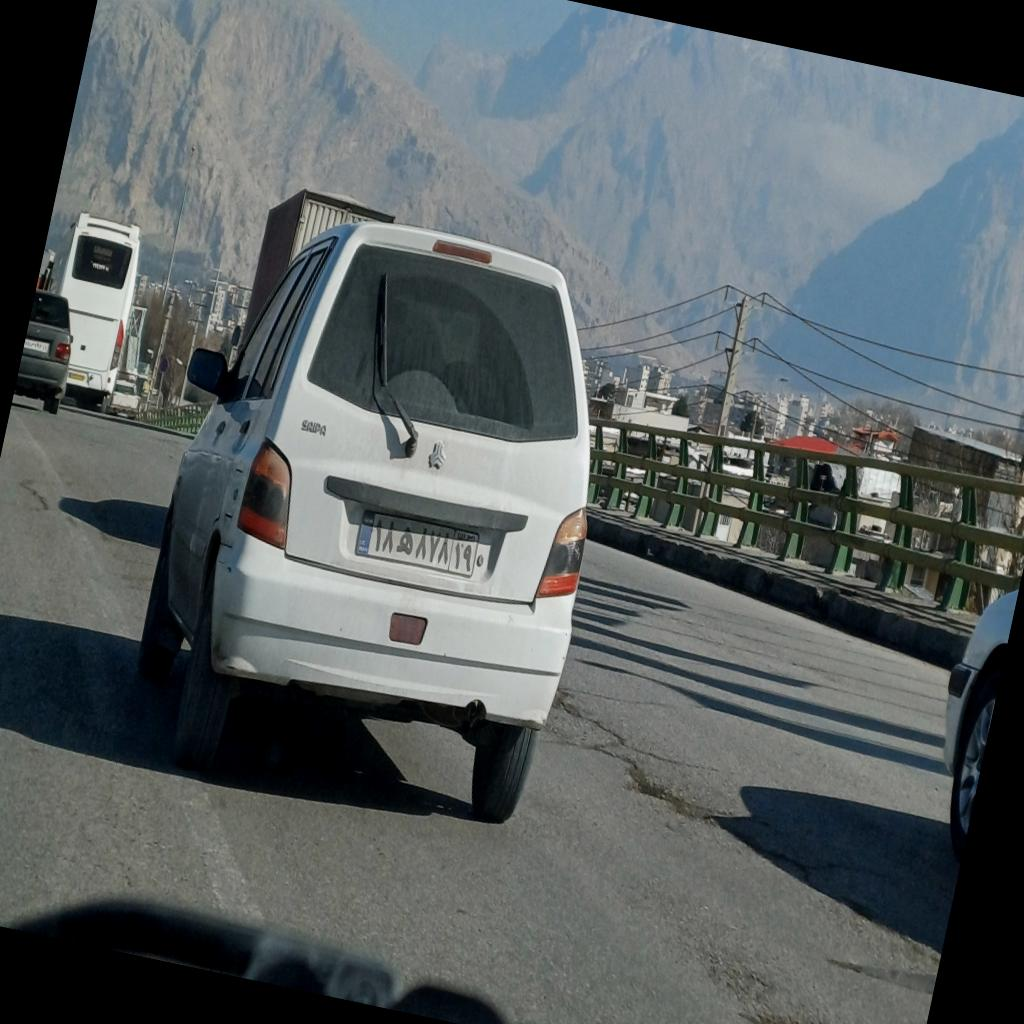Plates: (355, 508, 481, 576)
